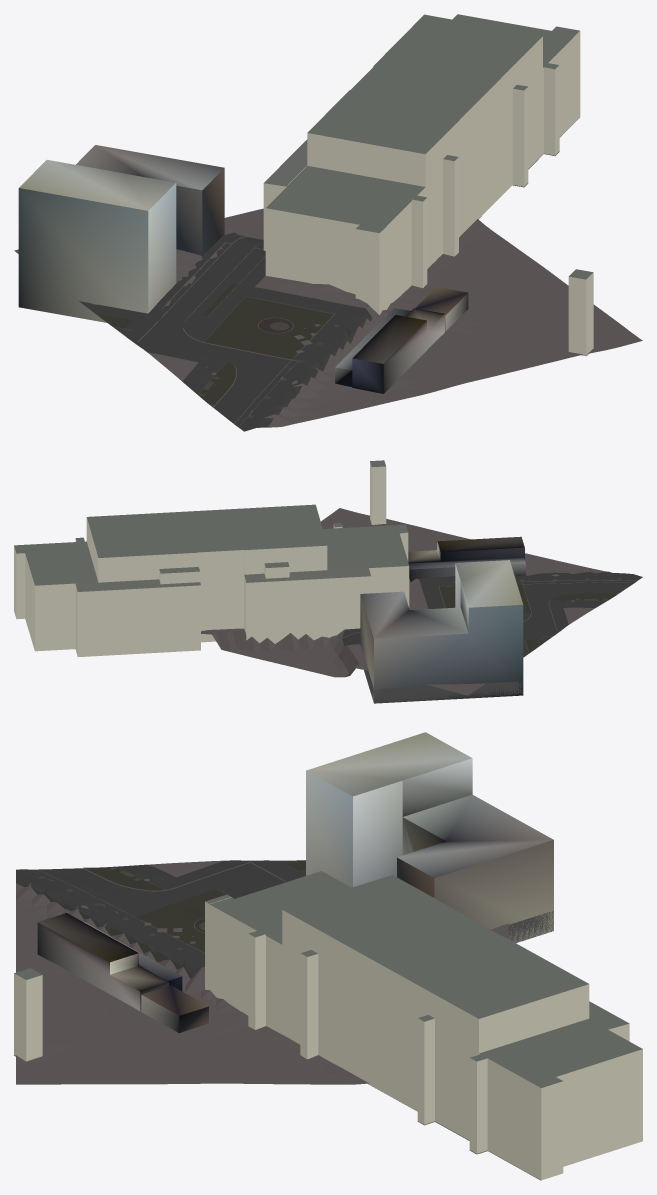
3 renders of one model, top to bottom at view 1: azimuth 30°, elevation 25°; view 2: azimuth 150°, elevation 25°; view 3: azimuth 270°, elevation 25°, orthographic. The views are drawn at different scales.
Parts seen in each view (by area): view 1: c_m22_p03; view 2: c_m22_p03; view 3: c_m22_p03.
Boxes of the visible parts, box(x1,y1,x2,y2) form: c_m22_p03: box(14, 14, 642, 431); c_m22_p03: box(14, 460, 642, 703); c_m22_p03: box(14, 732, 642, 1180).
Size of the model in its own units: 198 by 36.65 by 163.
